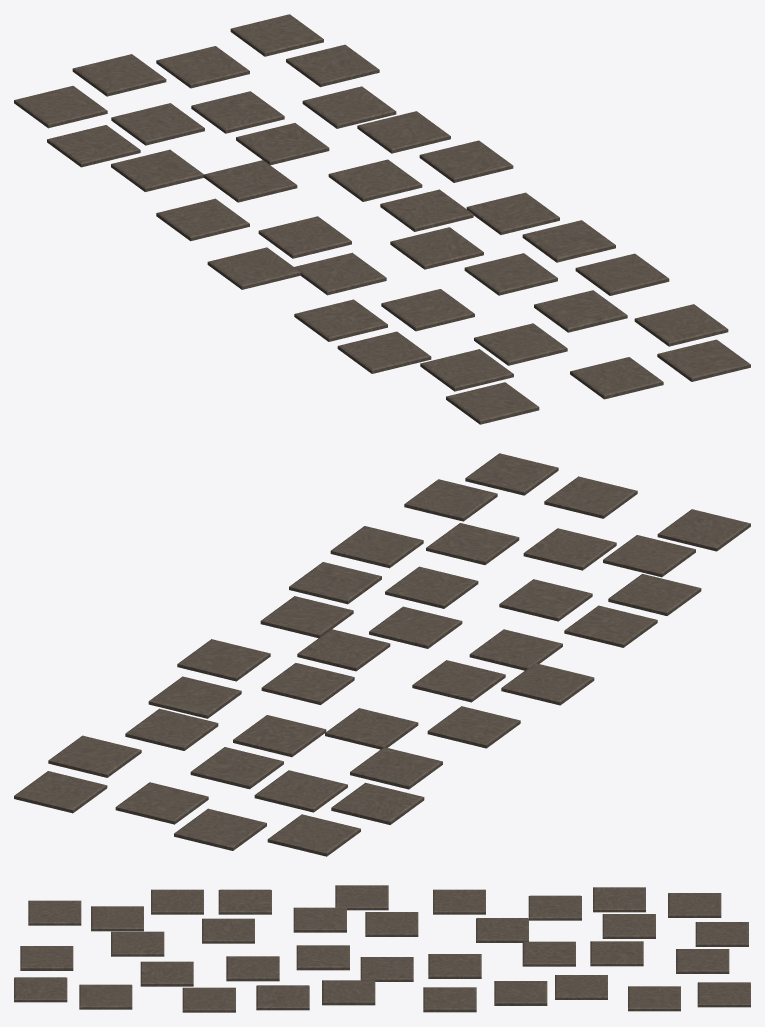
The model's file is Tiles.gltf.
3 views of the same model, one above another, from view 1: azimuth 30°, elevation 25°; view 2: azimuth 150°, elevation 25°; view 3: azimuth 270°, elevation 25° (orthographic). The views are drawn at different scales.
Parts seen in each view (by area): view 1: Tiles; view 2: Tiles; view 3: Tiles.
Part boxes in pixels (<box>): Tiles: <box>14,14,750,424</box>; Tiles: <box>14,453,750,856</box>; Tiles: <box>14,885,750,1012</box>.
Bounding box in the file's own units: 1.94 × 0.0226 × 4.85.
1 material, 1 textured.
